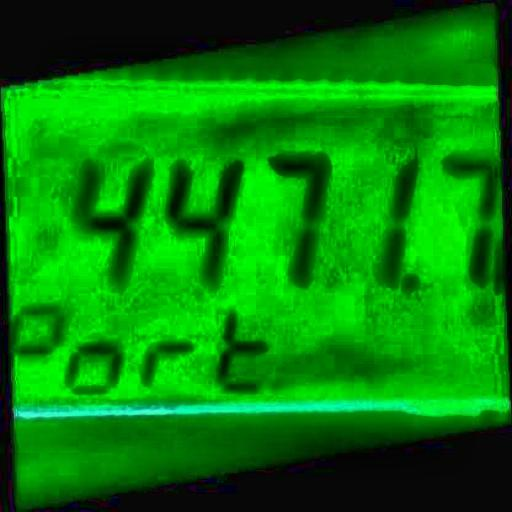DISPLAY_REGION: (0, 69, 508, 421)
SERIAL_REGION: (60, 150, 499, 301)
